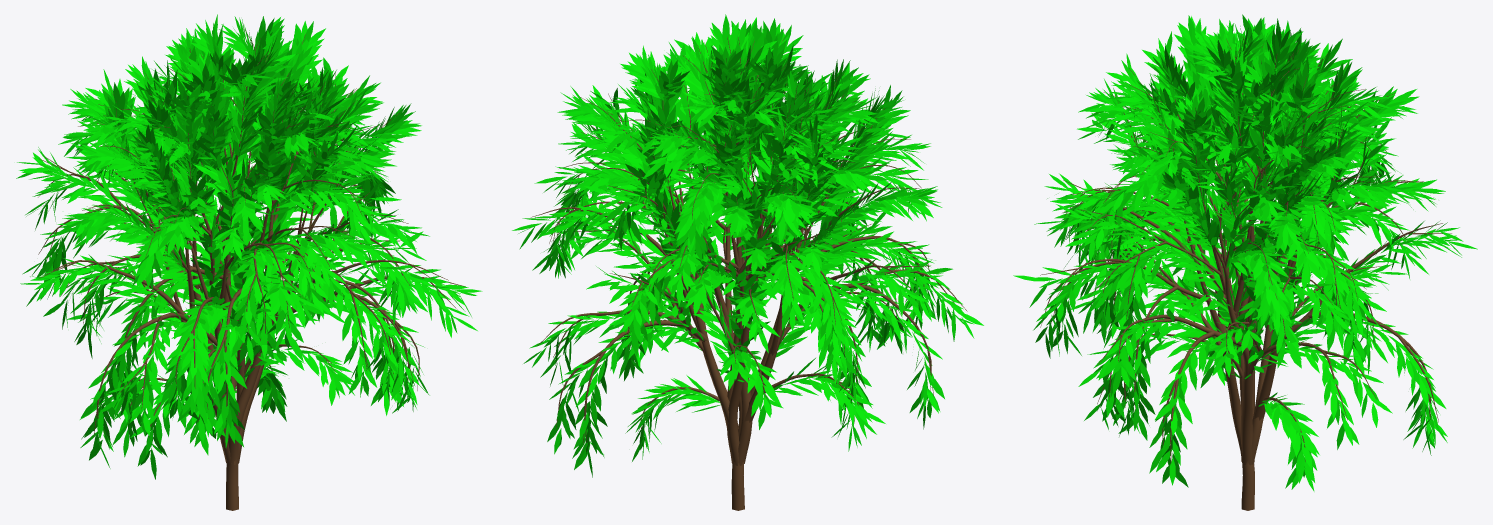
Rendered from Tree_3.fbx.
3 views of the same model, side by side, from view 1: azimuth 30°, elevation 25°; view 2: azimuth 150°, elevation 25°; view 3: azimuth 270°, elevation 25° (orthographic).
Visible parts, largest first — view 1: Tree 3; view 2: Tree 3; view 3: Tree 3.
Part boxes in pixels (box(x1,y1,x2,y2)): Tree 3: box(16, 14, 482, 510); Tree 3: box(512, 14, 983, 510); Tree 3: box(1013, 14, 1477, 510).
Size of the model in its own units: 626 by 718 by 629.
